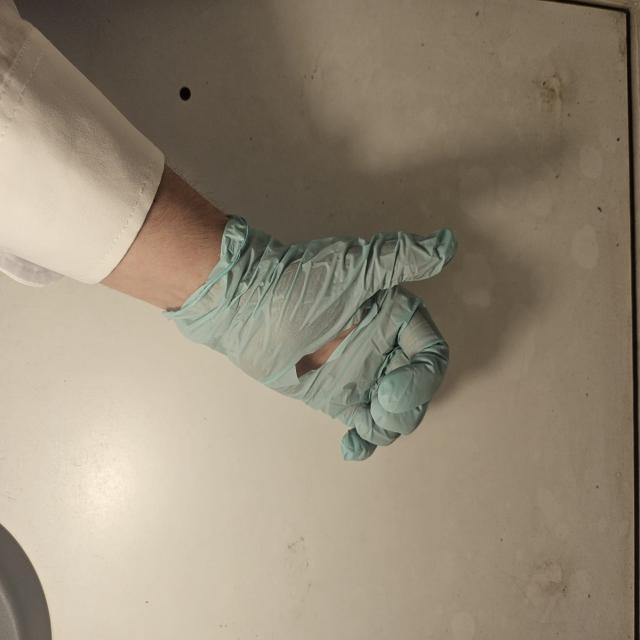gloves_damaged: (161, 210, 459, 466)
